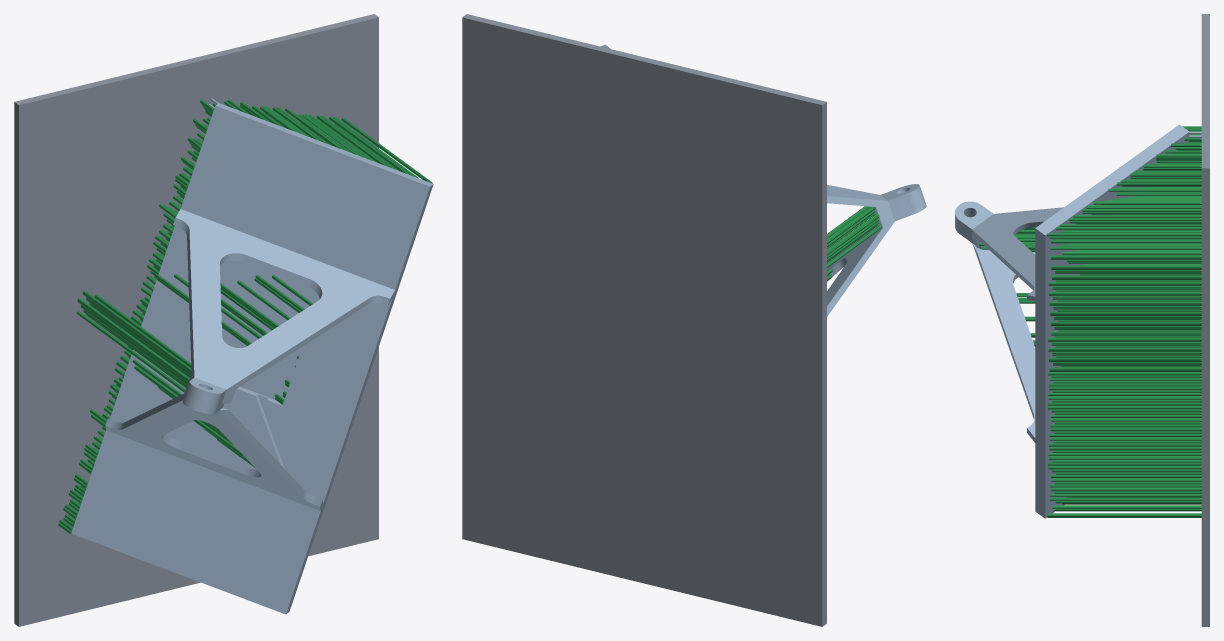
File: part_with_simplified_supports_and_platform.obj
The picture shows the model from 3 angles, left to right: view 1: azimuth 30°, elevation 25°; view 2: azimuth 150°, elevation 25°; view 3: azimuth 270°, elevation 25°; orthographic projection. The views are drawn at different scales.
Visible parts, largest first — view 1: Part, BuildPlate, SimplifiedSupportColumns; view 2: BuildPlate, Part, SimplifiedSupportColumns; view 3: SimplifiedSupportColumns, Part, BuildPlate.
Part boxes in pixels (bbox=[...]): Part: bbox=[67, 98, 433, 614]; BuildPlate: bbox=[14, 14, 378, 626]; SimplifiedSupportColumns: bbox=[58, 99, 432, 534]; BuildPlate: bbox=[462, 14, 826, 626]; Part: bbox=[600, 44, 926, 316]; SimplifiedSupportColumns: bbox=[827, 206, 881, 280]; SimplifiedSupportColumns: bbox=[978, 126, 1201, 517]; Part: bbox=[955, 124, 1201, 518]; BuildPlate: bbox=[1201, 14, 1209, 626].
Size of the model in its own units: 89.57 by 124 by 62.49.
